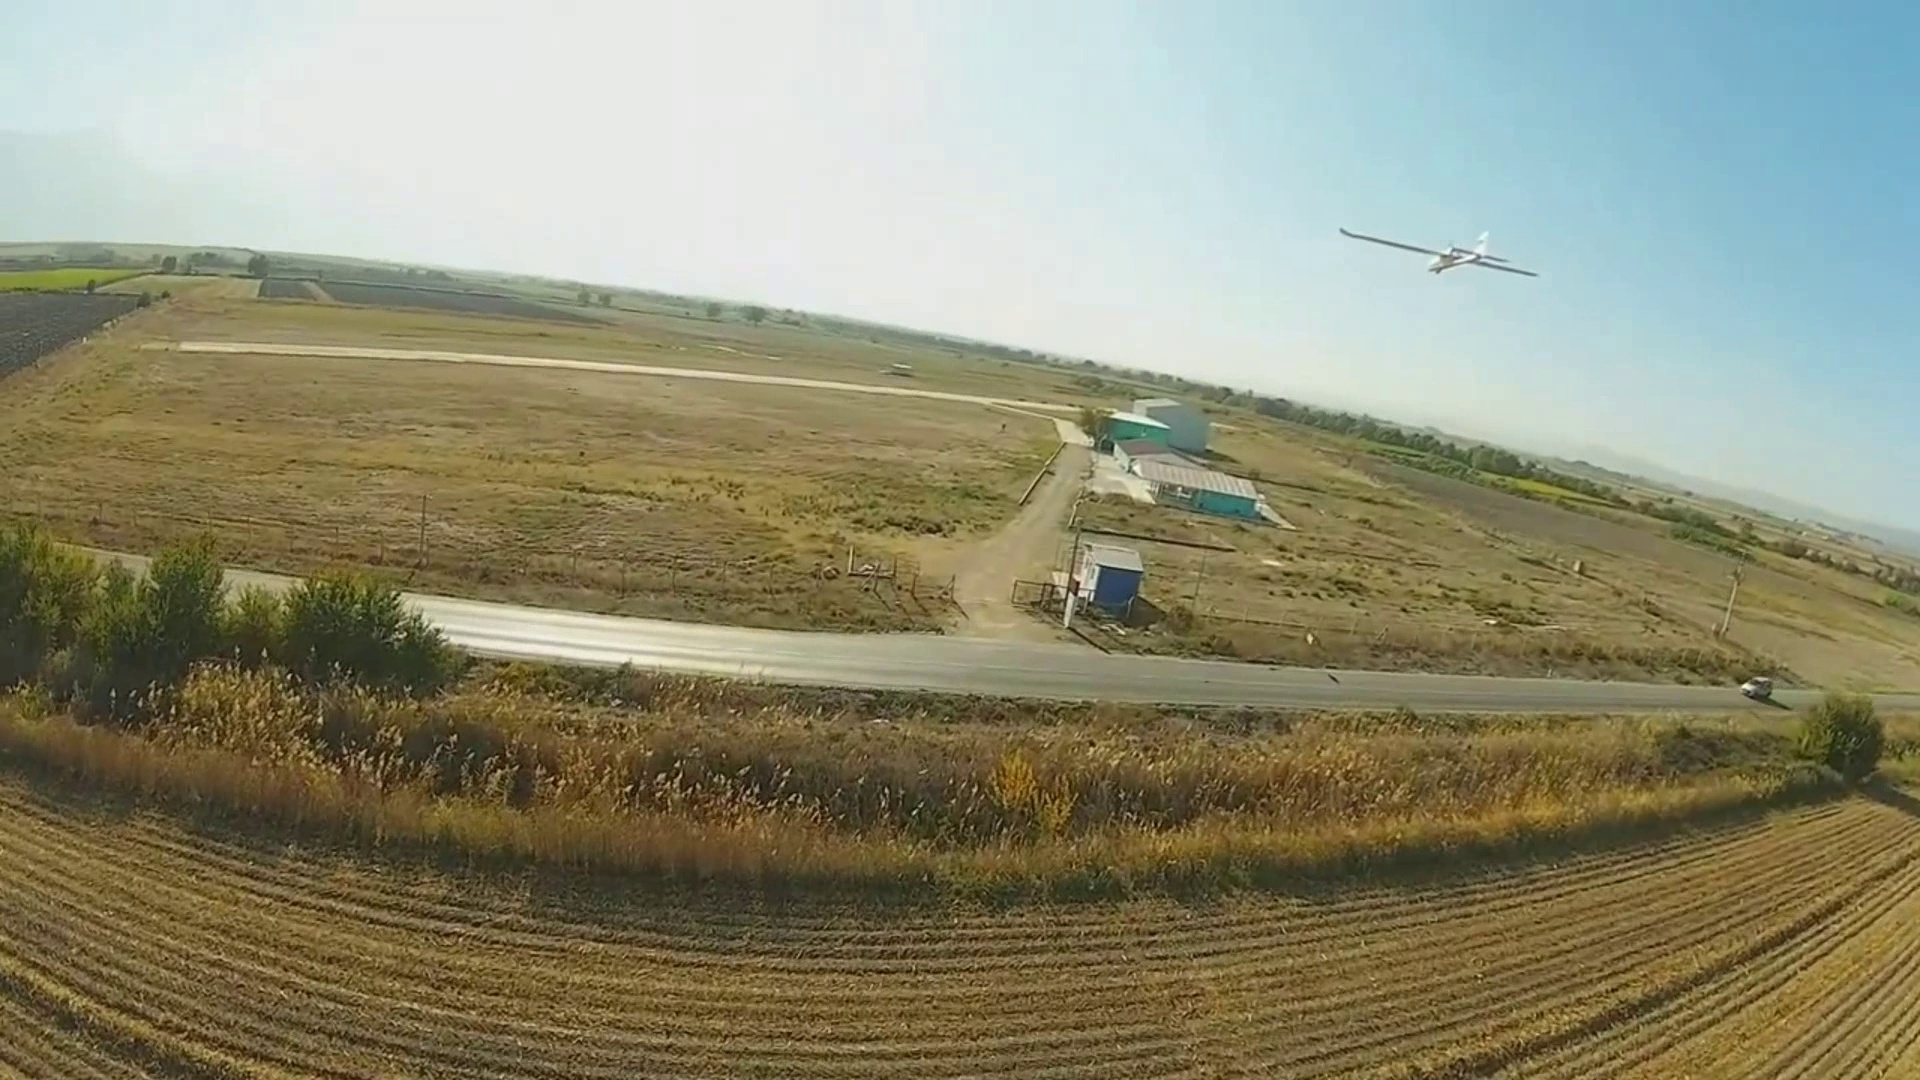airplane: (1335, 222, 1539, 280)
